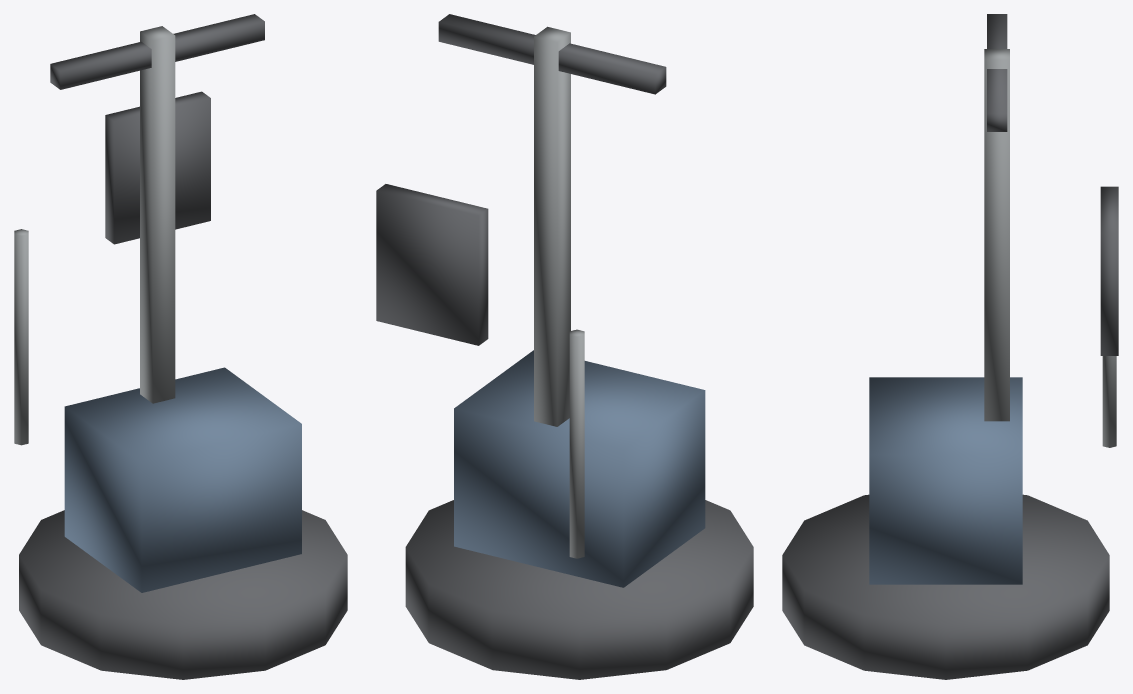
The model's file is floor_buffer__service.glb.
3 views of the same model, side by side, from view 1: azimuth 30°, elevation 25°; view 2: azimuth 150°, elevation 25°; view 3: azimuth 270°, elevation 25° (orthographic). The views are drawn at different scales.
Parts seen in each view (by area): view 1: world; view 2: world; view 3: world.
Boxes of the visible parts, x1,y1,x2,y2 form: world: [14, 14, 347, 679]; world: [376, 14, 753, 679]; world: [782, 14, 1118, 679].
Bounding box in the file's own units: 0.64 × 1.2 × 0.6576.
